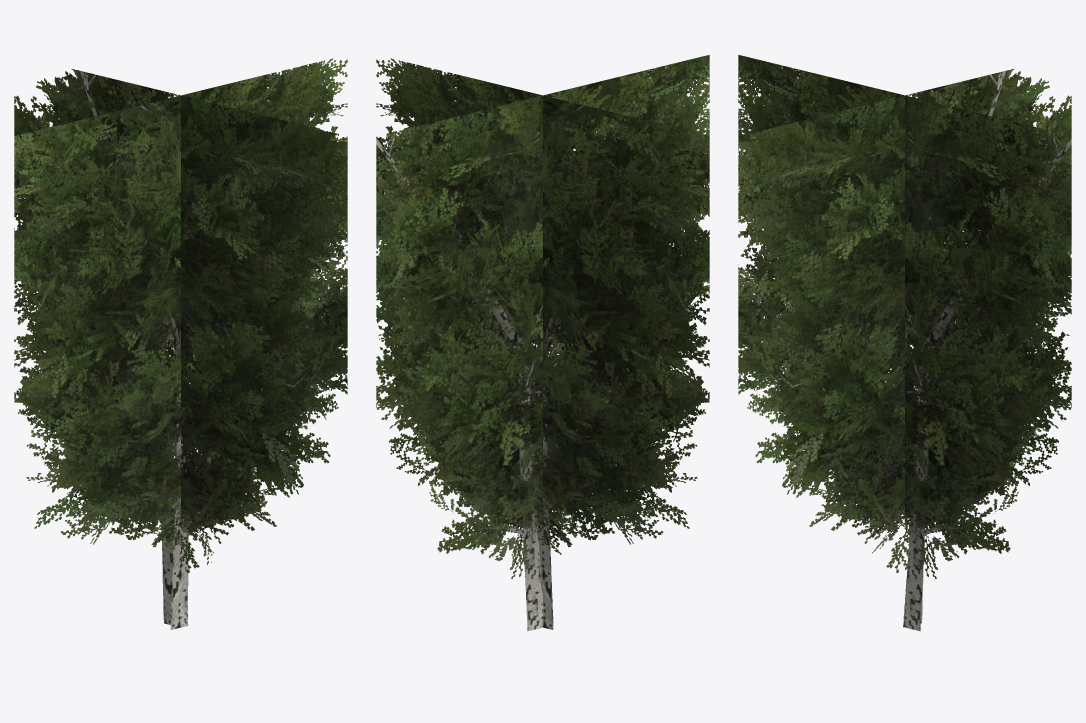
File: briza_stara_daleko.glb
3 views of the same model, side by side, from view 1: azimuth 30°, elevation 25°; view 2: azimuth 150°, elevation 25°; view 3: azimuth 270°, elevation 25° (orthographic).
Visible parts, largest first — view 1: briza_stara_daleko; view 2: briza_stara_daleko; view 3: briza_stara_daleko.
Boxes of the visible parts, bbox=[...] form: briza_stara_daleko: bbox=[14, 58, 347, 629]; briza_stara_daleko: bbox=[376, 55, 709, 631]; briza_stara_daleko: bbox=[738, 55, 1071, 631].
Bounding box in the file's own units: 12.35 × 18.83 × 10.7.
3 materials, 3 textured.
